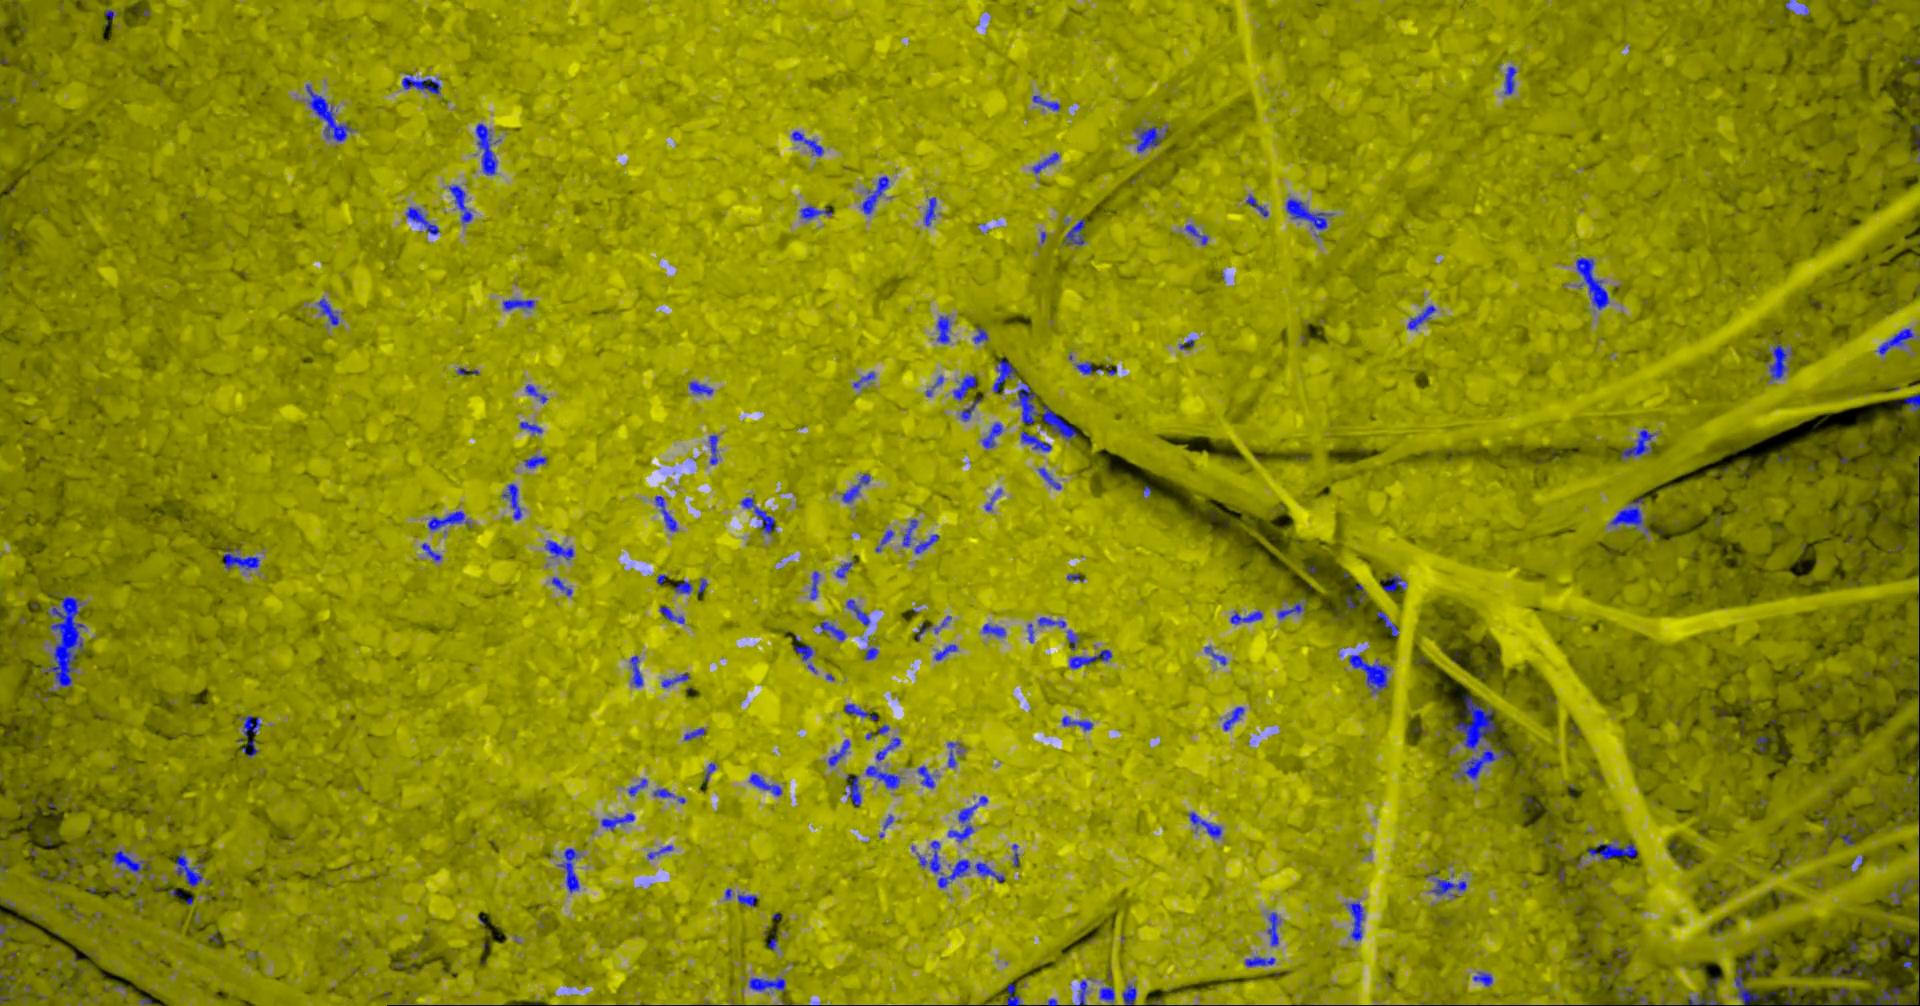ant: (1015, 381, 1076, 439), (305, 84, 352, 141), (1453, 695, 1495, 749), (1455, 742, 1511, 779), (1735, 951, 1769, 1005), (947, 795, 987, 841), (1575, 257, 1609, 309), (1349, 654, 1389, 692), (1285, 197, 1333, 229), (740, 497, 775, 533), (475, 123, 497, 175), (1609, 497, 1643, 528), (1619, 429, 1655, 459), (860, 177, 888, 213), (556, 848, 579, 892), (405, 206, 439, 234), (1187, 810, 1222, 838), (448, 184, 472, 224), (110, 848, 150, 873), (1877, 328, 1912, 354), (222, 545, 259, 569), (937, 859, 969, 887), (175, 854, 202, 887), (1587, 843, 1636, 861), (1768, 344, 1790, 381), (992, 358, 1016, 392), (427, 511, 470, 530), (841, 473, 869, 502), (1137, 126, 1167, 152), (654, 495, 677, 531), (865, 765, 900, 788), (791, 130, 823, 155), (1069, 649, 1111, 668), (401, 74, 439, 94), (1345, 902, 1364, 940), (748, 774, 781, 795), (918, 840, 940, 873), (502, 483, 521, 520), (1407, 305, 1435, 329), (1020, 431, 1051, 451), (846, 600, 870, 625), (827, 739, 850, 766), (1431, 878, 1465, 895), (844, 702, 877, 720), (601, 812, 634, 829), (875, 737, 900, 760), (974, 862, 1004, 882), (1063, 218, 1084, 245), (1377, 610, 1398, 636), (748, 977, 785, 992), (543, 540, 573, 559), (952, 375, 975, 399), (1031, 152, 1058, 173), (317, 298, 338, 325), (982, 422, 1002, 448), (1244, 194, 1269, 216), (1222, 706, 1243, 730), (844, 774, 860, 807), (960, 398, 982, 420), (1037, 467, 1060, 489), (820, 621, 846, 640), (1185, 224, 1208, 244), (1688, 989, 1718, 1005), (799, 205, 832, 218), (1895, 392, 1919, 412), (914, 533, 938, 553), (916, 622, 940, 641), (792, 636, 811, 661), (1876, 987, 1901, 1005), (1230, 610, 1262, 624), (1277, 602, 1304, 619), (524, 384, 547, 403), (629, 655, 643, 686), (1062, 716, 1092, 730), (659, 606, 684, 622), (551, 575, 571, 596), (1204, 647, 1225, 666), (1032, 95, 1059, 111), (902, 520, 917, 546), (875, 528, 893, 551), (917, 765, 935, 788), (933, 644, 957, 661), (936, 315, 950, 343), (662, 673, 690, 687), (243, 715, 260, 737), (502, 298, 535, 310), (984, 488, 1001, 511), (1267, 912, 1279, 945), (947, 741, 961, 767), (1503, 66, 1516, 94), (1382, 575, 1404, 591), (422, 542, 441, 560), (836, 560, 855, 578), (853, 371, 874, 387), (627, 779, 648, 795), (923, 197, 935, 226), (1830, 962, 1851, 977), (1037, 616, 1065, 627), (982, 622, 1004, 636), (1755, 735, 1775, 751), (1076, 361, 1100, 373), (688, 381, 712, 394), (648, 845, 672, 857), (683, 727, 705, 741), (1006, 983, 1020, 1005), (809, 570, 819, 600), (1244, 956, 1274, 967), (519, 420, 542, 433), (524, 455, 547, 467), (1472, 970, 1492, 984), (1123, 984, 1137, 1005), (1829, 987, 1849, 1001), (1076, 981, 1087, 1005), (241, 739, 258, 756), (971, 325, 987, 343), (709, 434, 717, 464), (1065, 629, 1078, 649), (1098, 986, 1114, 1002), (673, 579, 691, 593), (737, 894, 756, 906), (653, 788, 674, 796), (863, 647, 877, 659), (1839, 833, 1853, 845)
